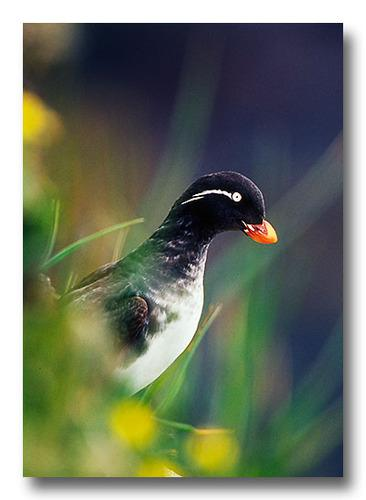007.Parakeet_Auklet: (52, 170, 282, 399)
